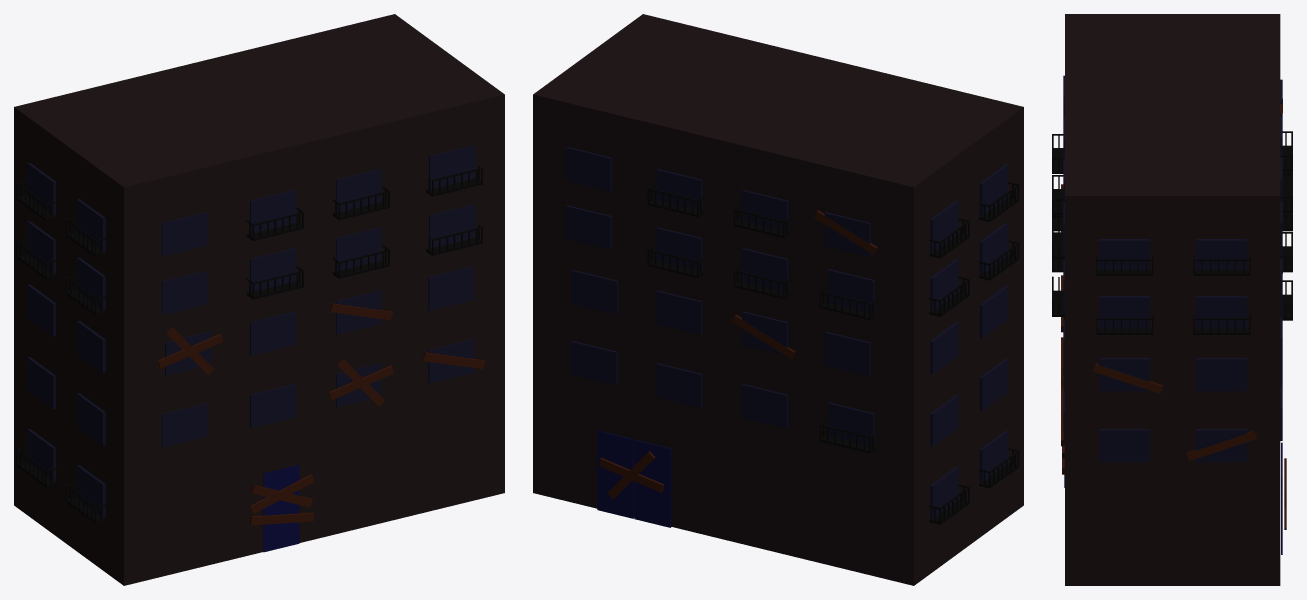
Rendered from Building3.FBX.
3 renders of one model, left to right at view 1: azimuth 30°, elevation 25°; view 2: azimuth 150°, elevation 25°; view 3: azimuth 270°, elevation 25°, orthographic. The views are drawn at different scales.
Parts seen in each view (by area): view 1: Box001, Box002, Box491, Box496, Box492, Box493, Box007, Box009, Box006, Box005, Box510, Box003 (+18 smaller); view 2: Box001, Box562, Box563, Box023, Box025, Box523, Box524, Box558, Box026, Box559, Box555, Box540 (+17 smaller); view 3: Box001, Box032, Box033, Box029, Box030, Box027, Box028, Box031, Box034, Box256, Box257, Box430 (+3 smaller).
Part boxes in pixels (x1,y1,x2,y2): Box001: (14, 14, 504, 585); Box002: (263, 464, 299, 552); Box491: (161, 212, 207, 256); Box496: (428, 266, 474, 310); Box492: (161, 270, 207, 314); Box493: (161, 403, 207, 447); Box007: (250, 311, 295, 355); Box009: (250, 384, 295, 428); Box006: (336, 227, 381, 271); Box005: (250, 248, 295, 292); Box510: (429, 145, 474, 189); Box003: (250, 189, 295, 233); Box001: (533, 14, 1023, 585); Box562: (634, 439, 671, 527); Box563: (597, 430, 633, 518); Box023: (656, 290, 702, 334); Box025: (656, 363, 702, 407); Box523: (565, 146, 611, 191); Box524: (565, 205, 611, 249); Box558: (571, 341, 617, 385); Box026: (742, 384, 788, 428); Box559: (572, 270, 618, 314); Box555: (824, 331, 870, 376); Box540: (828, 402, 874, 446); Box001: (1065, 14, 1280, 585); Box032: (1196, 358, 1246, 391); Box033: (1099, 429, 1149, 462); Box029: (1099, 296, 1149, 328); Box030: (1196, 296, 1246, 328); Box027: (1099, 239, 1149, 269); Box028: (1196, 239, 1246, 269); Box031: (1099, 358, 1149, 391); Box034: (1196, 429, 1246, 462); Box256: (1186, 430, 1256, 460); Box257: (1092, 363, 1162, 393); Box430: (1096, 327, 1153, 334).
Size of the model in its own units: 106 by 100 by 55.96.
